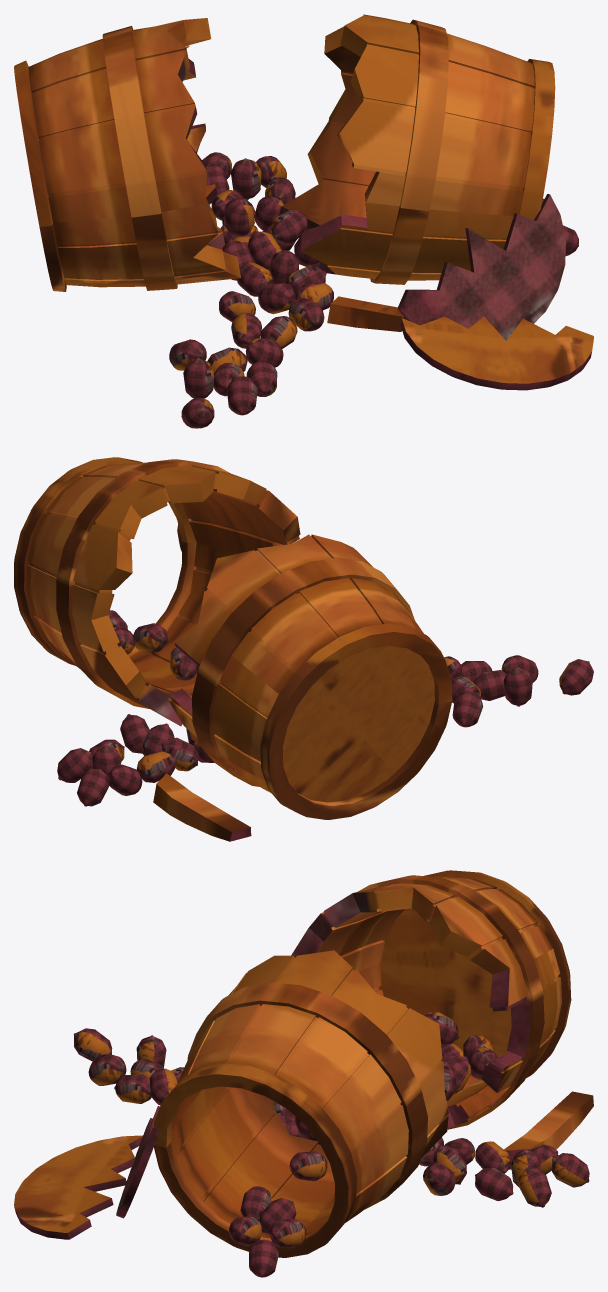
File: barrel of broken fruit_7.fbx
The picture shows the model from 3 angles, top to bottom: view 1: azimuth 30°, elevation 25°; view 2: azimuth 150°, elevation 25°; view 3: azimuth 270°, elevation 25°; orthographic projection. The views are drawn at different scales.
Parts seen in each view (by area): view 1: Circle.033, Circle.034, Plane.1740, Plane.1751, Plane.1728, Plane.1779, Plane.1757, Plane.1772, Plane.1729, Plane.1780, Plane.1774, Plane.1763 (+14 smaller); view 2: Circle.033, Plane.1720, Plane.1721, Plane.1733, Plane.1723, Plane.1740, Plane.1747, Plane.1739, Plane.1753, Plane.1745, Plane.1725, Plane.1746 (+4 smaller); view 3: Circle.033, Circle.034, Plane.1723, Plane.1733, Plane.1718, Plane.1777, Plane.1720, Plane.1737, Plane.1728, Plane.1754, Plane.1771, Plane.1745 (+11 smaller).
Boxes of the visible parts, x1,y1,x2,y2 form: Circle.033: [14, 14, 555, 331]; Circle.034: [397, 194, 593, 390]; Plane.1740: [183, 358, 214, 398]; Plane.1751: [230, 158, 261, 199]; Plane.1728: [227, 376, 257, 415]; Plane.1779: [224, 197, 254, 236]; Plane.1757: [270, 209, 307, 243]; Plane.1772: [258, 283, 295, 314]; Plane.1729: [288, 298, 324, 331]; Plane.1780: [247, 231, 281, 269]; Plane.1774: [237, 262, 273, 296]; Plane.1763: [246, 338, 283, 367]; Circle.033: [14, 457, 452, 841]; Plane.1720: [559, 659, 593, 695]; Plane.1721: [136, 751, 176, 782]; Plane.1733: [57, 748, 92, 782]; Plane.1723: [77, 768, 108, 806]; Plane.1740: [503, 667, 532, 706]; Plane.1747: [452, 690, 483, 727]; Plane.1739: [108, 764, 142, 795]; Plane.1753: [133, 623, 168, 652]; Plane.1745: [120, 714, 149, 753]; Plane.1725: [161, 737, 198, 771]; Plane.1746: [474, 670, 506, 700]; Circle.033: [154, 870, 593, 1257]; Circle.034: [14, 1106, 160, 1239]; Plane.1723: [551, 1153, 589, 1187]; Plane.1733: [518, 1167, 551, 1207]; Plane.1718: [475, 1167, 513, 1200]; Plane.1777: [289, 1151, 327, 1181]; Plane.1720: [73, 1028, 112, 1061]; Plane.1737: [249, 1239, 278, 1277]; Plane.1728: [88, 1054, 126, 1085]; Plane.1754: [114, 1074, 151, 1103]; Plane.1771: [270, 1218, 306, 1248]; Plane.1745: [423, 1162, 455, 1195].
Size of the model in its own units: 74.3 by 37.01 by 79.57.
